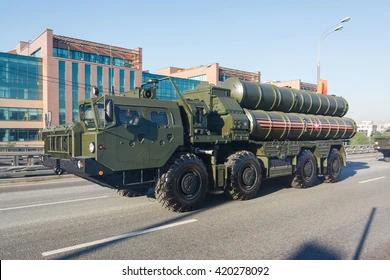MIL_SAM_TEL: (36, 71, 360, 215)
